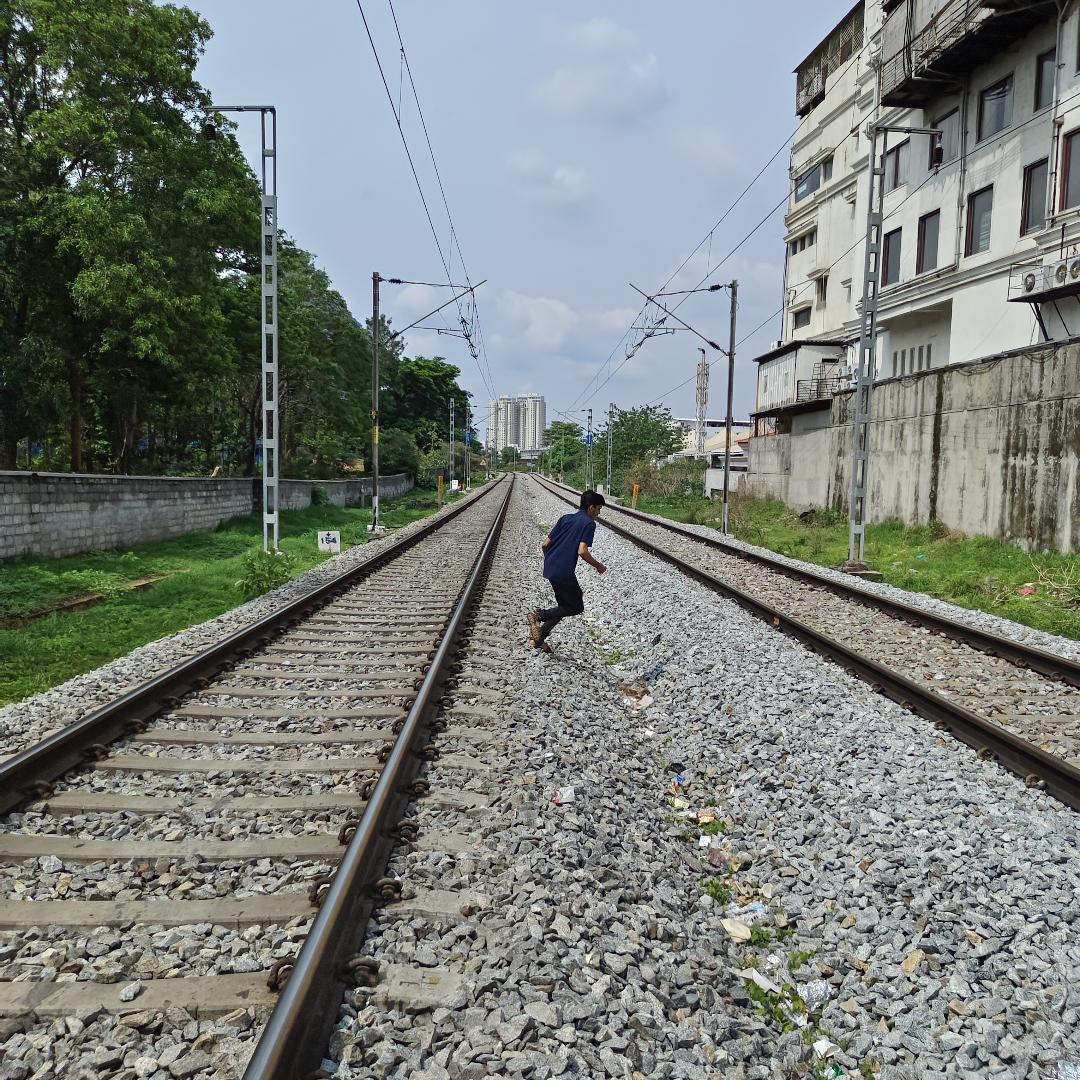standing: (511, 478, 620, 670)
track: (0, 469, 523, 1079)
